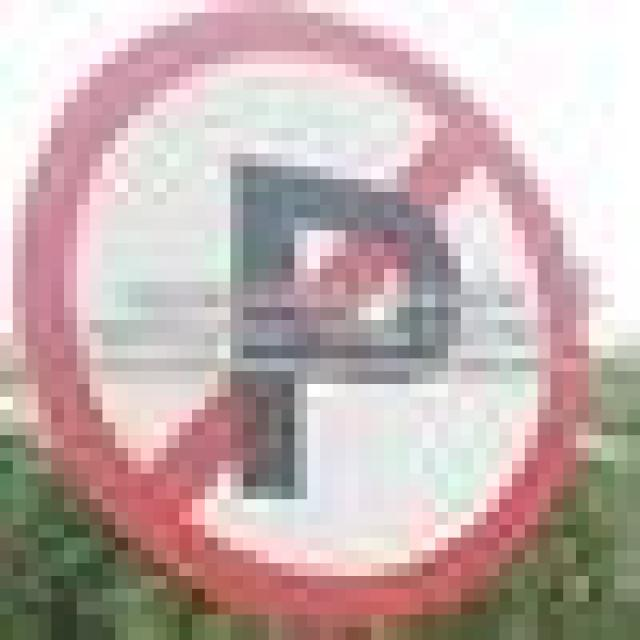do_not_enter: (0, 0, 589, 627)
